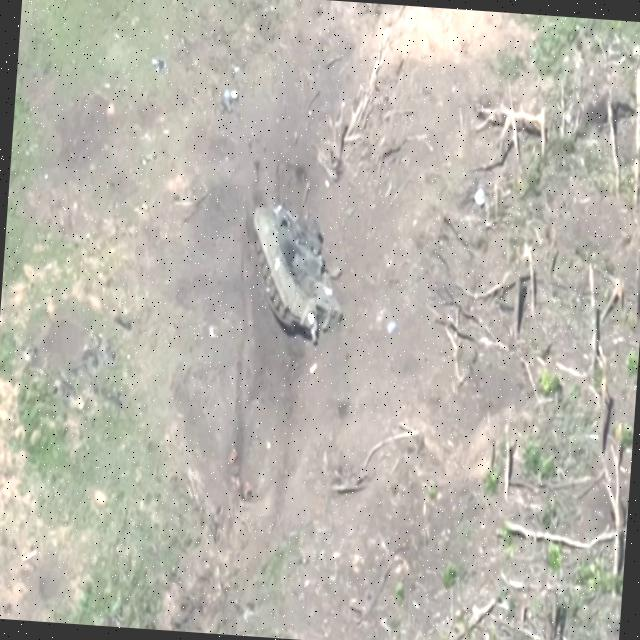MBT: (244, 198, 351, 342)
